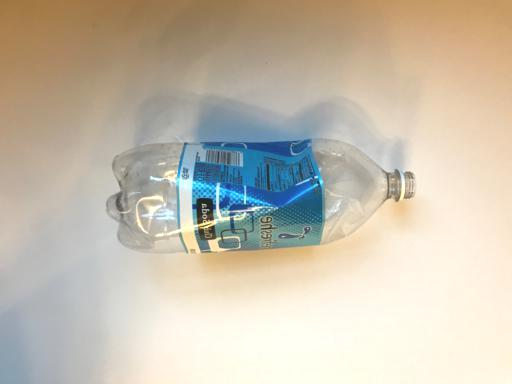bottle: (104, 132, 424, 260)
